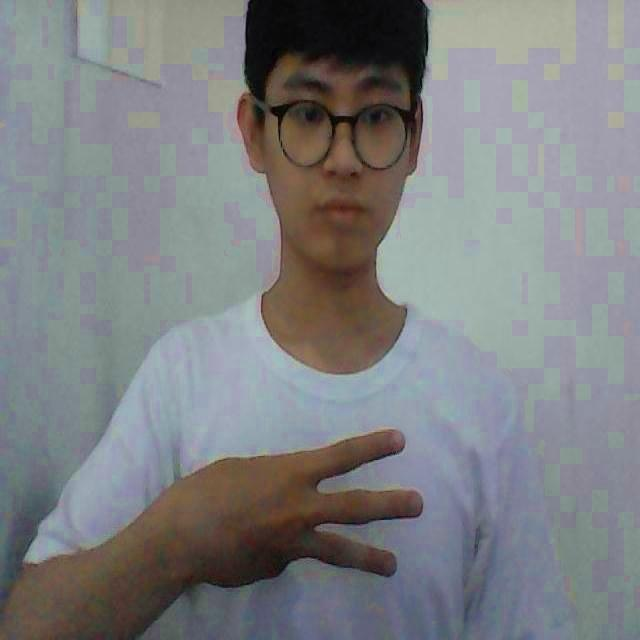E: (151, 420, 424, 601)
